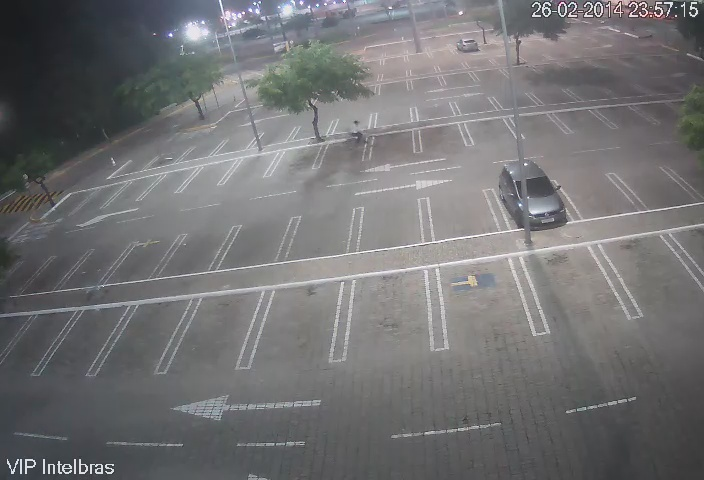car: (495, 166, 573, 228)
lot: (514, 238, 637, 325), (432, 251, 539, 340), (343, 267, 440, 361), (598, 232, 704, 313), (257, 277, 346, 371), (183, 289, 254, 372), (115, 294, 182, 371), (62, 306, 118, 381), (559, 171, 637, 222), (615, 164, 694, 212), (15, 302, 63, 376), (425, 196, 503, 240), (353, 204, 432, 247), (290, 212, 357, 261), (228, 223, 291, 270), (170, 231, 221, 278), (595, 99, 656, 136), (120, 237, 168, 284), (551, 109, 615, 142), (507, 113, 565, 147), (415, 123, 467, 159), (79, 242, 117, 290), (461, 120, 521, 148), (42, 252, 79, 296), (276, 144, 321, 179), (323, 139, 369, 173), (183, 159, 228, 192), (366, 134, 421, 159), (151, 165, 188, 201), (230, 160, 274, 186), (84, 182, 117, 215), (114, 176, 150, 206), (452, 93, 501, 112), (491, 87, 535, 108), (56, 190, 86, 219), (417, 98, 455, 120), (535, 84, 574, 105), (295, 120, 337, 139), (376, 107, 414, 128), (224, 128, 255, 153), (260, 126, 294, 148), (190, 136, 220, 160), (336, 115, 375, 131), (159, 143, 182, 169), (122, 154, 150, 173)
